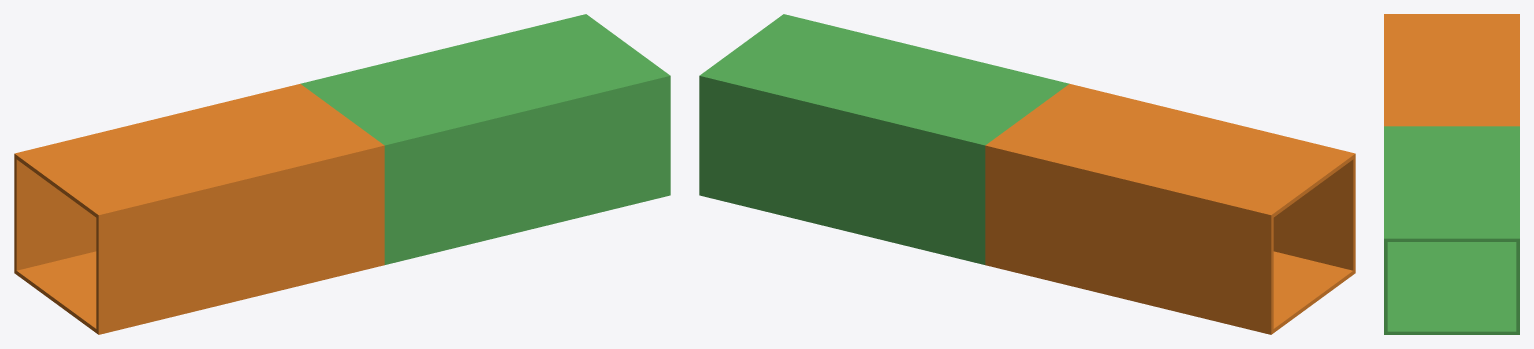
The model's file is heat_recovery_system_temperature.glb.
3 views of the same model, side by side, from view 1: azimuth 30°, elevation 25°; view 2: azimuth 150°, elevation 25°; view 3: azimuth 270°, elevation 25° (orthographic). The views are drawn at different scales.
Parts seen in each view (by area): view 1: temperature__front, temperature__back; view 2: temperature__back, temperature__front; view 3: temperature__back, temperature__front.
Part boxes in pixels (x1,y1,x2,y2): temperature__front: [56, 45, 670, 334]; temperature__back: [14, 14, 627, 303]; temperature__back: [699, 45, 1313, 334]; temperature__front: [742, 14, 1355, 303]; temperature__back: [1452, 14, 1519, 334]; temperature__front: [1384, 14, 1451, 334].
Size of the model in its own units: 3.6 by 0.72 by 0.92.
